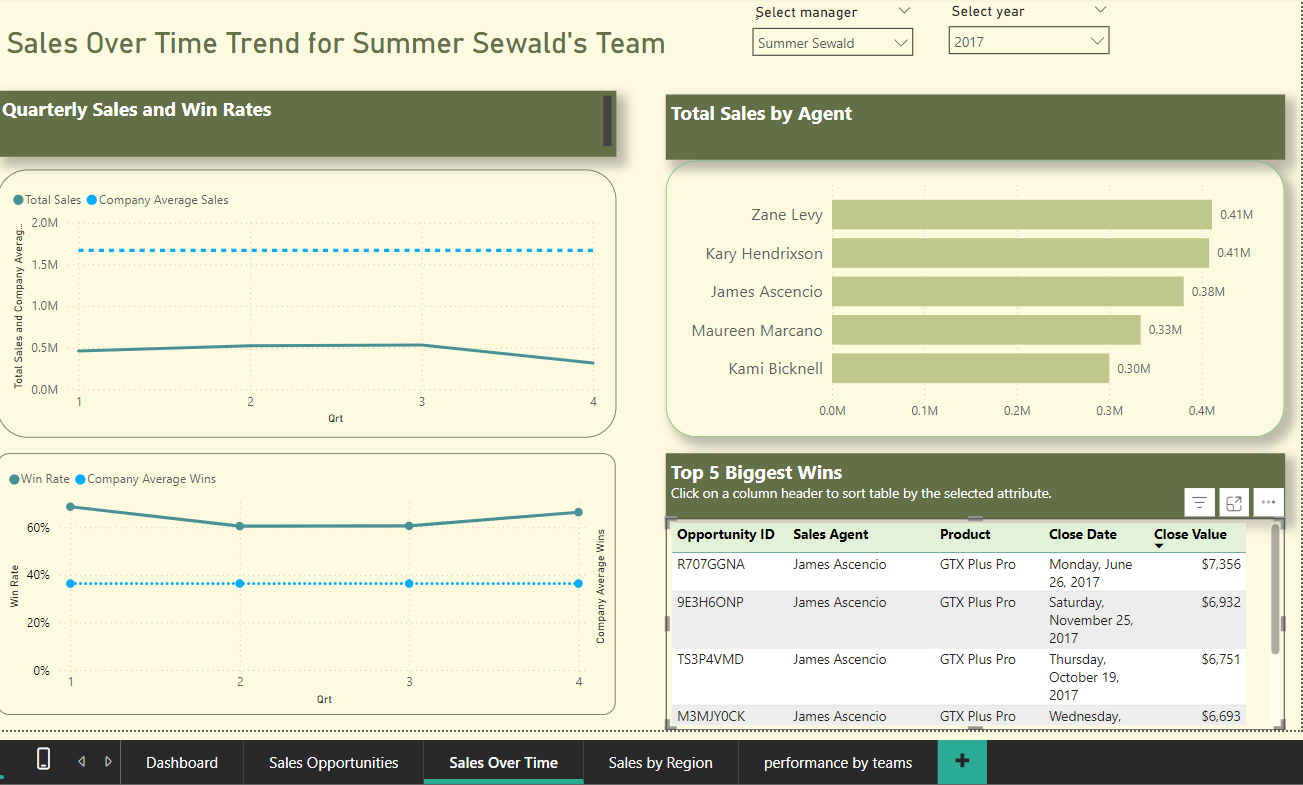

What the dashboard file says about the page in this screenshot:
{"tool":"powerbi","page":{"name":"Sales Over Time","canvas":[1280,720],"ordinal":2},"visuals":[{"type":"cardVisual","fields":{"Data":["measures1.Welcome Sales Over Time"]},"box":[0,0,731.2,67.5],"z":0},{"type":"textbox","box":[0,101.3,606.8,55.5],"z":1000},{"type":"lineChart","fields":{"Y":["measures1.Total Sales","measures1.Company Average Sales"],"Category":["Calendar.Qrt"]},"box":[0,169.3,607.4,262.6],"z":2000},{"type":"textbox","box":[656.3,101.3,609.3,54.3],"z":3000},{"type":"barChart","fields":{"Y":["measures1.Total Sales"],"Category":["sales_teams.sales_agent"]},"box":[656.4,160.7,607.4,271.2],"z":4000},{"type":"lineChart","title":"Quarterly Win Rate","fields":{"Y":["measures1.Win Rate"],"Category":["Calendar.Qrt"],"Y2":["measures1.Company Average Wins"]},"box":[0,447.9,607.4,256.4],"z":5000},{"type":"textbox","box":[658.7,447.6,606.8,51.9],"z":6000},{"type":"tableEx","title":"Top 5 Biggest Wins","fields":{"Values":["sales_pipeline.opportunity_id","sales_teams.sales_agent","products.product","sales_pipeline.close_date","Sum(sales_pipeline.close_value)"]},"box":[656.3,499.5,608,220.8],"z":7000},{"type":"slicer","fields":{"Values":["sales_teams.manager"]},"box":[783,0,250.9,67.6],"z":8000},{"type":"slicer","fields":{"Values":["Calendar.year"]},"box":[1043.6,0,236.5,67.6],"z":9000}]}

Visuals, with their boxes on the page's 1280x720 design canvas (x1, y1, x2, y2). These are canvas units, not pixel positions in the 1303x785 screenshot, which may show the page scaled, cropped or inside an application window:
cardVisual - measures1.Welcome Sales Over Time: locate(0, 0, 731, 68)
textbox: locate(0, 101, 607, 157)
lineChart - measures1.Total Sales x measures1.Company Average Sales: locate(0, 169, 607, 432)
textbox: locate(656, 101, 1266, 156)
barChart - measures1.Total Sales x sales_teams.sales_agent: locate(656, 161, 1264, 432)
"Quarterly Win Rate" lineChart: locate(0, 448, 607, 704)
textbox: locate(659, 448, 1266, 500)
"Top 5 Biggest Wins" tableEx: locate(656, 500, 1264, 720)
slicer - sales_teams.manager: locate(783, 0, 1034, 68)
slicer - Calendar.year: locate(1044, 0, 1280, 68)
